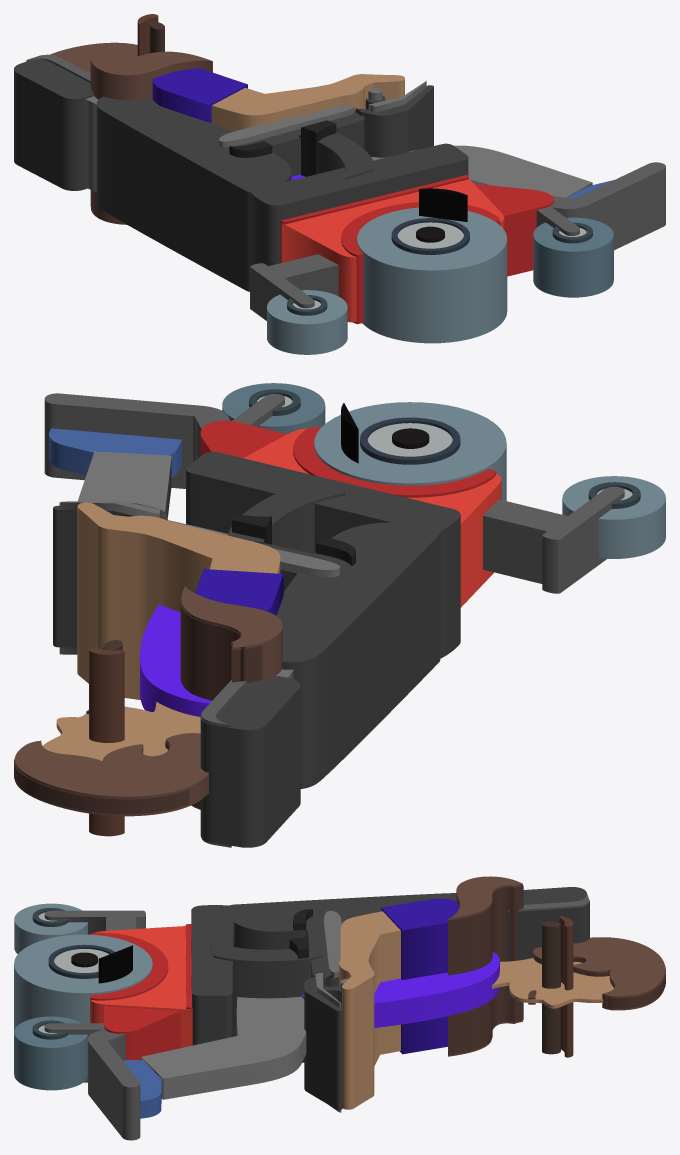
The model's file is emoji_u1f469_1f3fd_200d_1f9bc_200d_27a1.glb.
3 views of the same model, one above another, from view 1: azimuth 30°, elevation 25°; view 2: azimuth 150°, elevation 25°; view 3: azimuth 270°, elevation 25° (orthographic). The views are drawn at different scales.
Parts seen in each view (by area): view 1: emoji_u1f469_1f3fd_200d_1f9bc_200d_27a1; view 2: emoji_u1f469_1f3fd_200d_1f9bc_200d_27a1; view 3: emoji_u1f469_1f3fd_200d_1f9bc_200d_27a1.
Part boxes in pixels (x1=…): emoji_u1f469_1f3fd_200d_1f9bc_200d_27a1: x1=14, y1=14, x2=665, y2=354; emoji_u1f469_1f3fd_200d_1f9bc_200d_27a1: x1=14, y1=383, x2=665, y2=847; emoji_u1f469_1f3fd_200d_1f9bc_200d_27a1: x1=14, y1=876, x2=665, y2=1140.
Bounding box in the file's own units: 0.0238 × 0.0078 × 0.0334.
